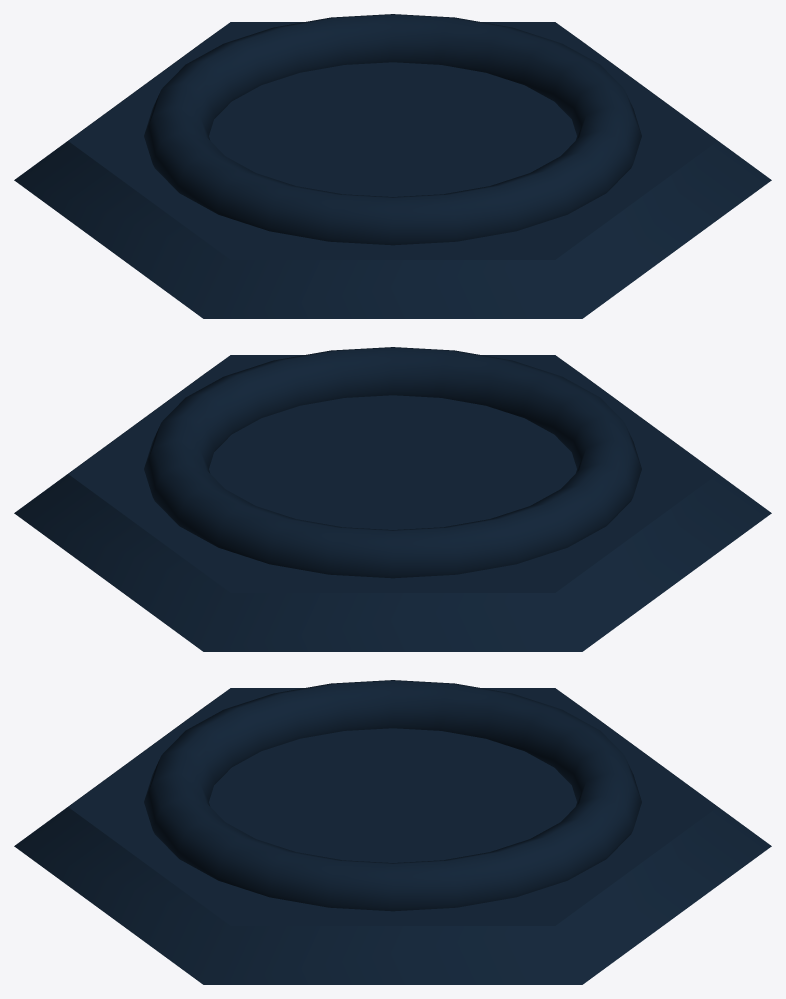
File: capability-station.glb
The picture shows the model from 3 angles, top to bottom: view 1: azimuth 30°, elevation 25°; view 2: azimuth 150°, elevation 25°; view 3: azimuth 270°, elevation 25°; orthographic projection.
Visible parts, largest first — view 1: station_pad_base, station_dock_collar; view 2: station_pad_base, station_dock_collar; view 3: station_pad_base, station_dock_collar.
Part boxes in pixels (box(x1,y1,x2,y2)): station_pad_base: box(14, 22, 771, 318); station_dock_collar: box(144, 14, 641, 245); station_pad_base: box(14, 355, 771, 651); station_dock_collar: box(144, 347, 641, 578); station_pad_base: box(14, 688, 771, 984); station_dock_collar: box(144, 680, 641, 911).
Bounding box in the file's own units: 0.2425 × 0.03 × 0.28.
